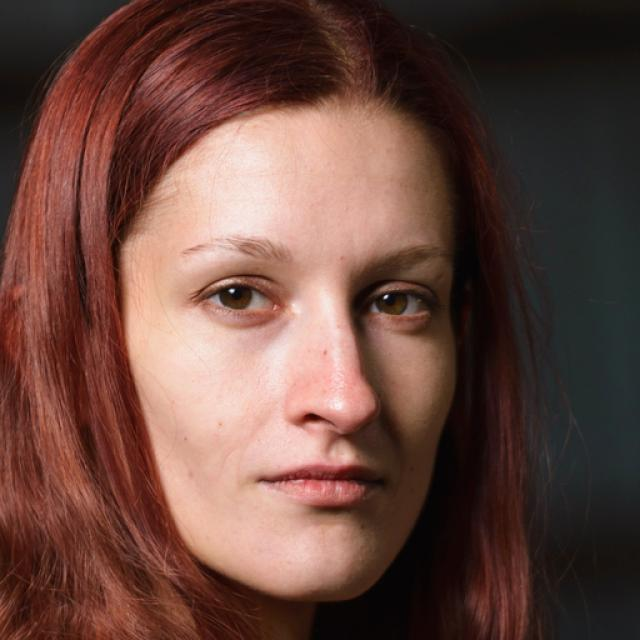content: (124, 93, 458, 596)
